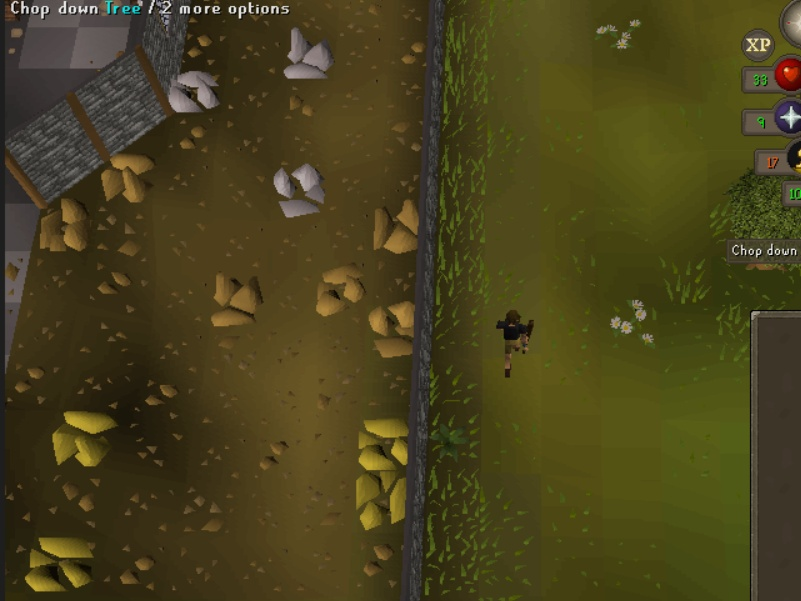clay: (30, 193, 96, 253), (303, 258, 369, 318), (359, 193, 425, 253), (203, 271, 269, 331), (93, 147, 159, 207), (364, 298, 423, 356)
gold: (44, 402, 126, 467), (21, 527, 103, 592), (354, 406, 412, 472), (354, 463, 412, 529)
silver: (163, 64, 230, 120), (268, 162, 335, 218), (275, 26, 342, 82)
